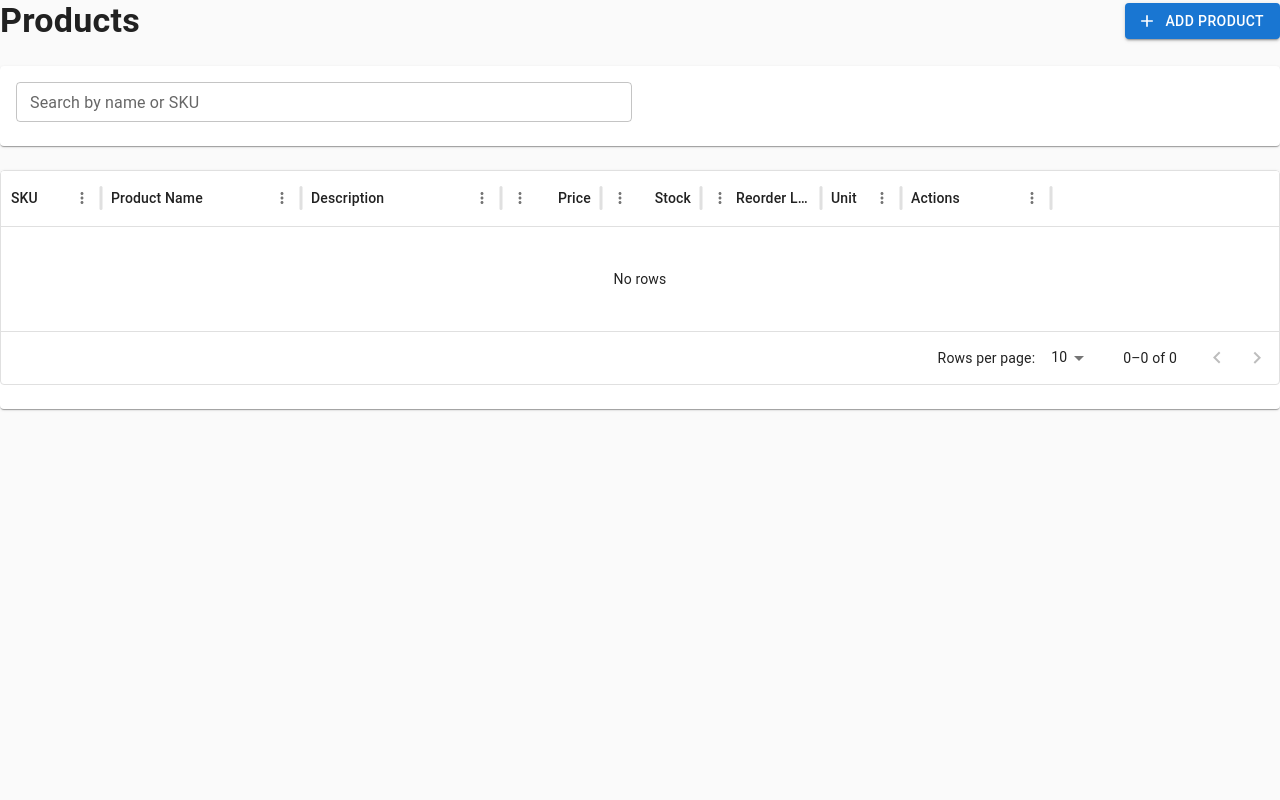
Test: Products page › shows validation error when saving empty form
Click the button "Add Product": [1203, 21] box [1125, 3, 1279, 39]
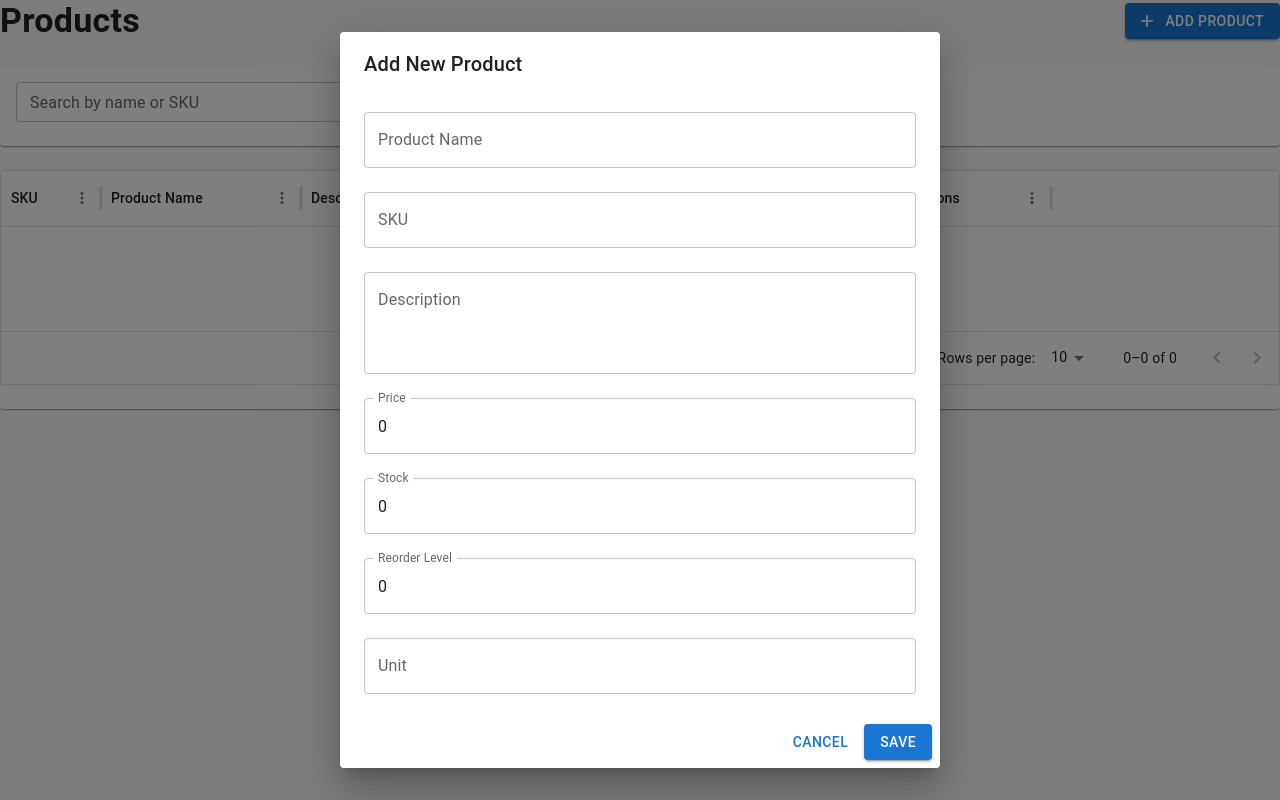
Click the button "Save": [898, 742] box [864, 724, 932, 760]
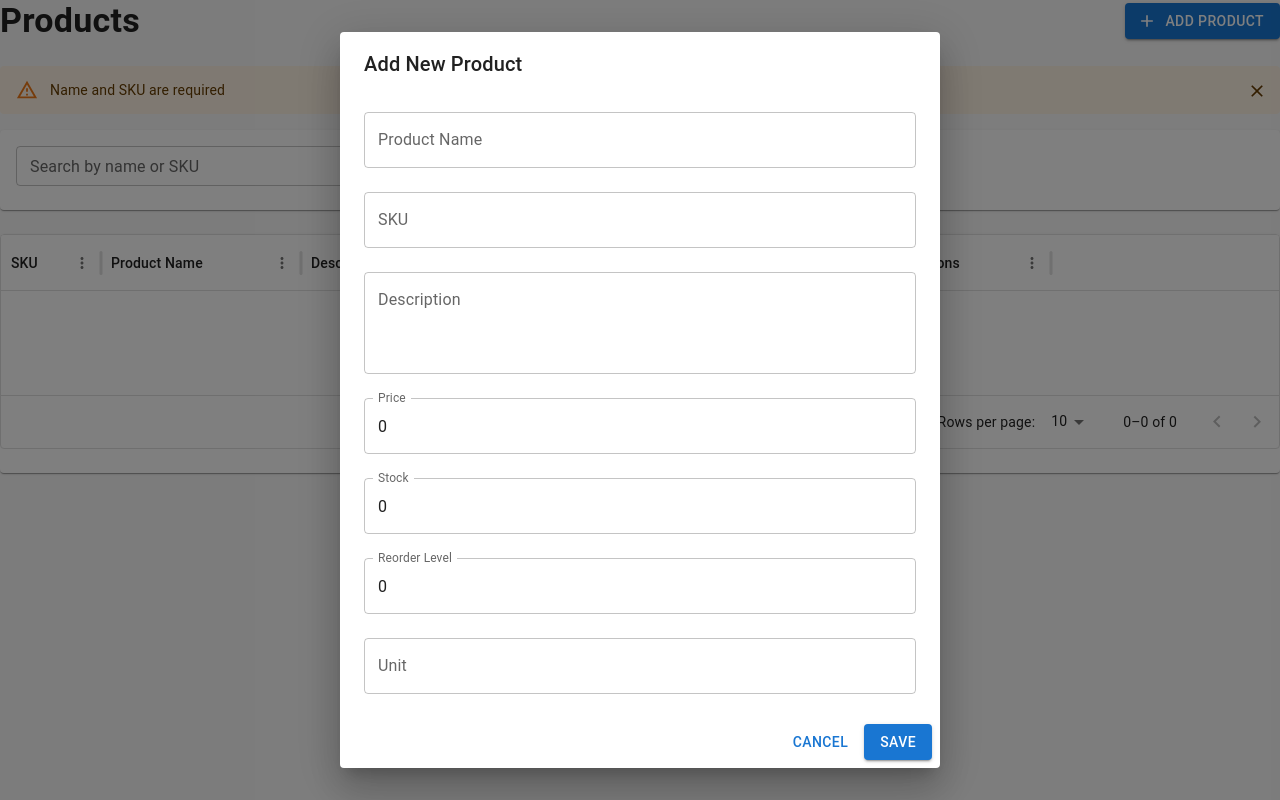
Result: the text "Name and SKU are required" is shown at [50, 82, 225, 98]
